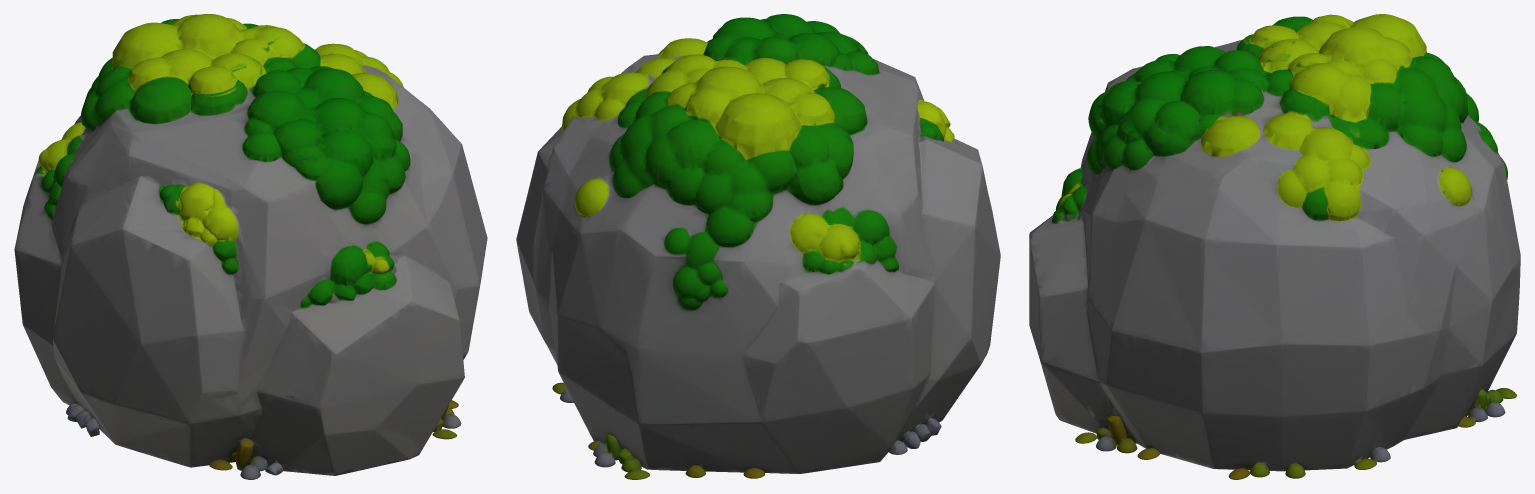
File: boulder-large-a.glb
3 renders of one model, left to right at view 1: azimuth 30°, elevation 25°; view 2: azimuth 150°, elevation 25°; view 3: azimuth 270°, elevation 25°, orthographic. The views are drawn at different scales.
Parts seen in each view (by area): view 1: node_0; view 2: node_0; view 3: node_0.
Boxes of the visible parts, x1,y1,x2,y2 form: node_0: [14, 14, 487, 479]; node_0: [516, 14, 1000, 479]; node_0: [1029, 14, 1520, 479].
Size of the model in its own units: 0.9261 by 0.7595 by 0.9485.
Materials: 1 (1 with a texture image).
